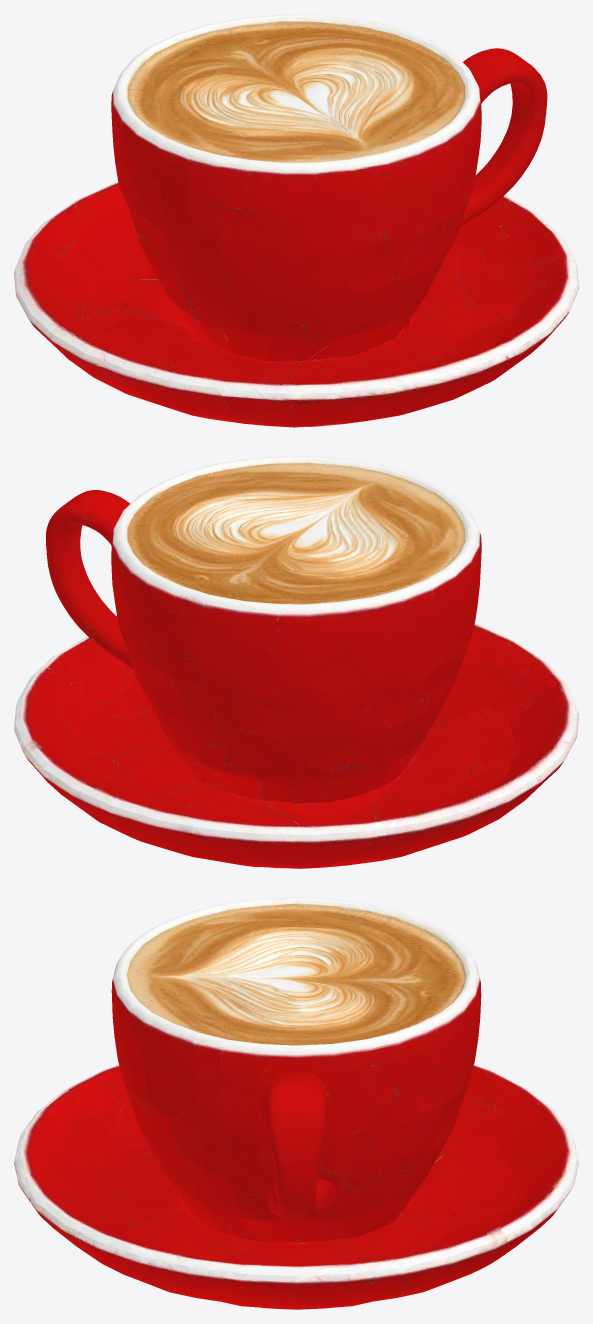
File: taza-roja.glb
The picture shows the model from 3 angles, top to bottom: view 1: azimuth 30°, elevation 25°; view 2: azimuth 150°, elevation 25°; view 3: azimuth 270°, elevation 25°; orthographic projection.
Visible parts, largest first — view 1: Mesh_0; view 2: Mesh_0; view 3: Mesh_0.
Part boxes in pixels (left/top/right/bottom): Mesh_0: left=14, top=14, right=578, bottom=427; Mesh_0: left=14, top=456, right=578, bottom=868; Mesh_0: left=14, top=897, right=578, bottom=1309.
Bounding box in the file's own units: 1.9 × 1.02 × 1.9.
1 material, 1 textured.
